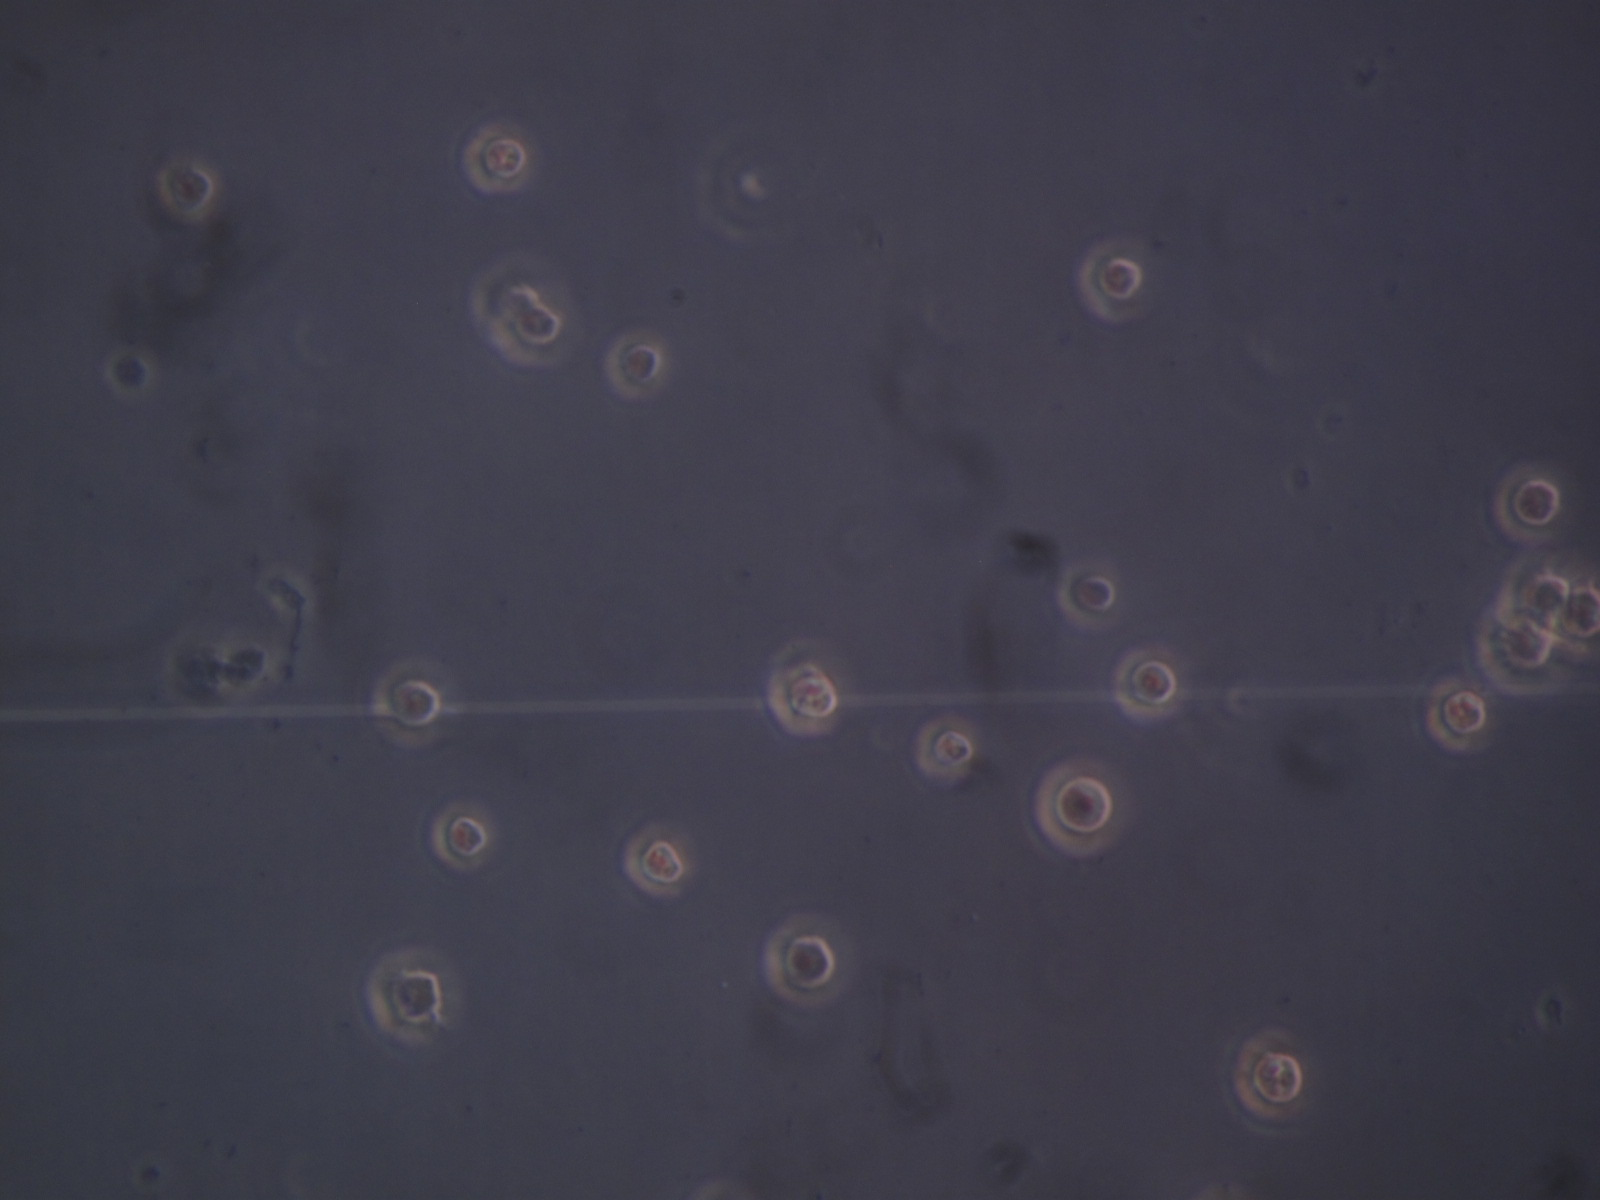hemo: (1034, 760, 1128, 856), (1475, 608, 1556, 697), (365, 950, 442, 1042), (762, 916, 838, 1006), (471, 256, 566, 326), (370, 661, 442, 747), (1233, 1029, 1303, 1118), (767, 661, 840, 737), (1490, 466, 1561, 542), (1077, 241, 1143, 321), (1112, 647, 1180, 720), (1500, 553, 1571, 623), (622, 823, 687, 897), (461, 126, 530, 194), (1426, 678, 1488, 753), (1054, 562, 1117, 630), (431, 802, 491, 872), (493, 308, 564, 367), (603, 332, 665, 400), (913, 716, 979, 779), (157, 159, 215, 221), (1556, 587, 1600, 653), (106, 348, 155, 397)
